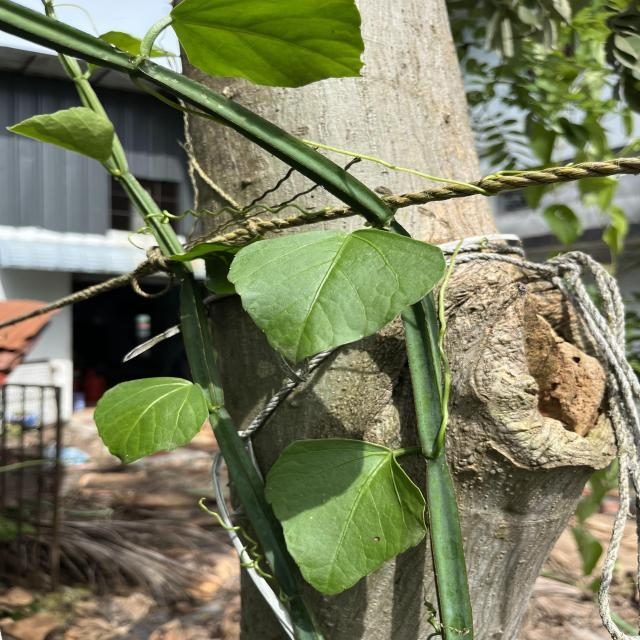Cissus quadrangularis: (222, 224, 450, 368), (259, 434, 432, 599)
